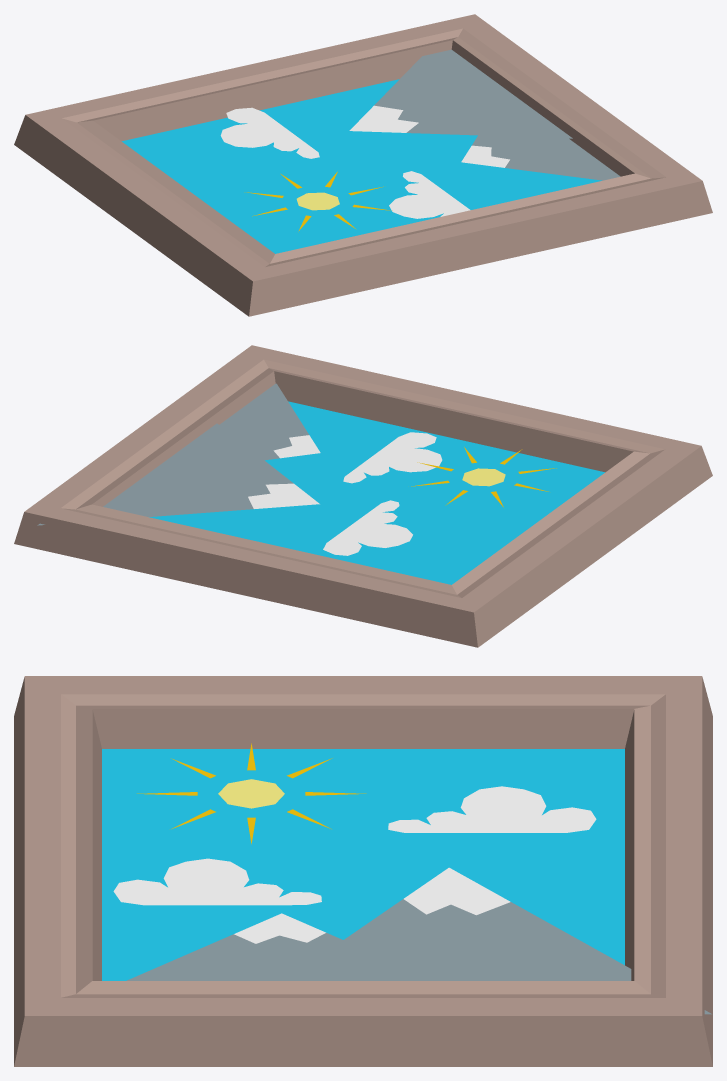
Rendered from painting.glb.
3 views of the same model, one above another, from view 1: azimuth 30°, elevation 25°; view 2: azimuth 150°, elevation 25°; view 3: azimuth 270°, elevation 25° (orthographic). The views are drawn at different scales.
Visible parts, largest first — view 1: Wall_Painting_01_Plane.002; view 2: Wall_Painting_01_Plane.002; view 3: Wall_Painting_01_Plane.002.
Part boxes in pixels (box(x1,y1,x2,y2)): Wall_Painting_01_Plane.002: box(14, 14, 712, 316); Wall_Painting_01_Plane.002: box(14, 345, 712, 647); Wall_Painting_01_Plane.002: box(14, 676, 712, 1066).
Size of the model in its own units: 1.93 by 0.1595 by 1.69.
